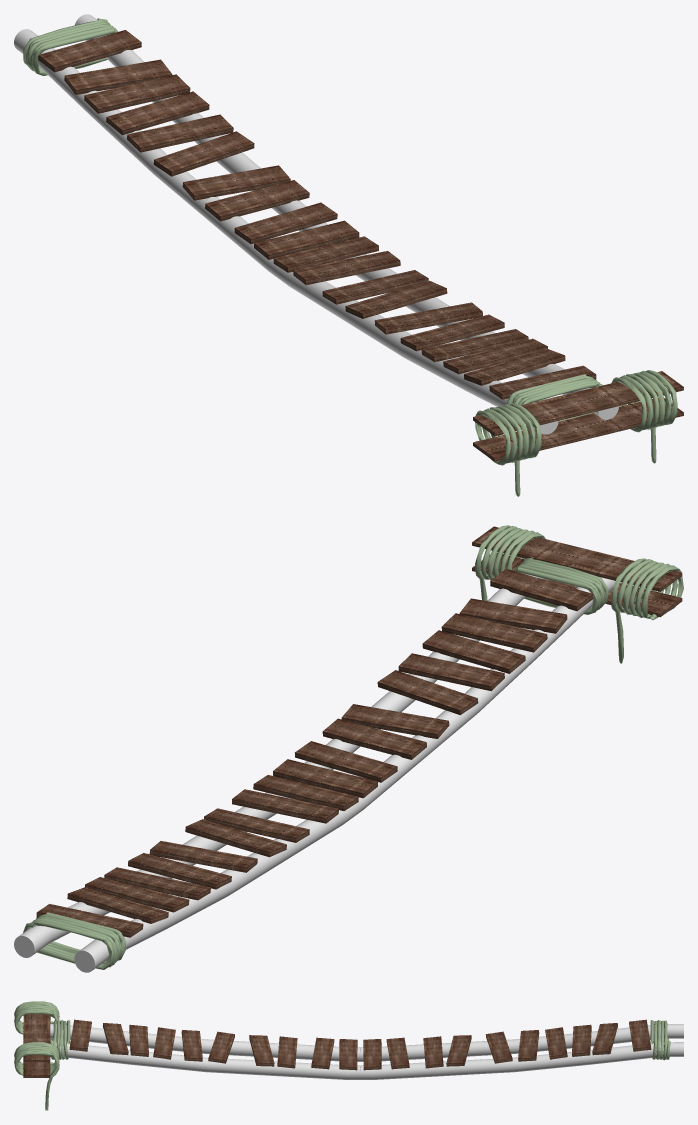
File: 1_bridge_straight_nobase.fbx
3 views of the same model, one above another, from view 1: azimuth 30°, elevation 25°; view 2: azimuth 150°, elevation 25°; view 3: azimuth 270°, elevation 25° (orthographic). The views are drawn at different scales.
Parts seen in each view (by area): view 1: 1_straight_La, 1_straight_verschlag, 1_straight_verschlag_ropes, 1_straight_La_ropes; view 2: 1_straight_La, 1_straight_verschlag_ropes, 1_straight_verschlag, 1_straight_La_ropes; view 3: 1_straight_La, 1_straight_verschlag_ropes, 1_straight_verschlag, 1_straight_La_ropes.
Part boxes in pixels (bbox=[...]): 1_straight_La: bbox=[14, 14, 618, 434]; 1_straight_verschlag: bbox=[473, 371, 683, 461]; 1_straight_verschlag_ropes: bbox=[475, 370, 677, 496]; 1_straight_La_ropes: bbox=[23, 18, 603, 428]; 1_straight_La: bbox=[14, 569, 615, 972]; 1_straight_verschlag_ropes: bbox=[475, 525, 683, 663]; 1_straight_verschlag: bbox=[472, 526, 682, 617]; 1_straight_La_ropes: bbox=[23, 557, 608, 969]; 1_straight_La: bbox=[50, 1019, 683, 1079]; 1_straight_verschlag_ropes: bbox=[14, 1001, 59, 1110]; 1_straight_verschlag: bbox=[23, 1013, 50, 1077]; 1_straight_La_ropes: bbox=[50, 1020, 670, 1060].
Bounding box in the file's own units: 25.01 × 12.01 × 124.
3 materials, 1 textured.
